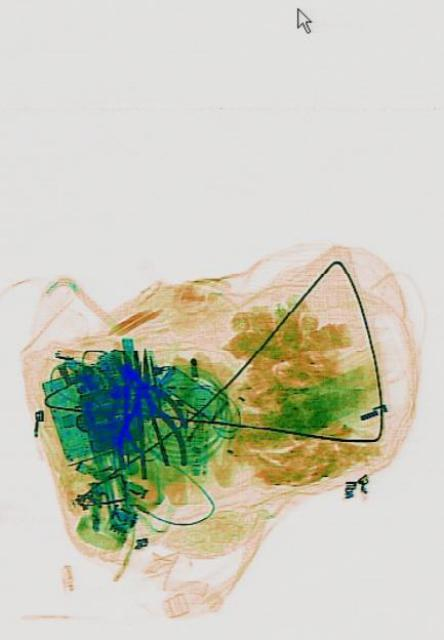Pliers: (96, 329, 187, 461), (112, 344, 182, 466)
